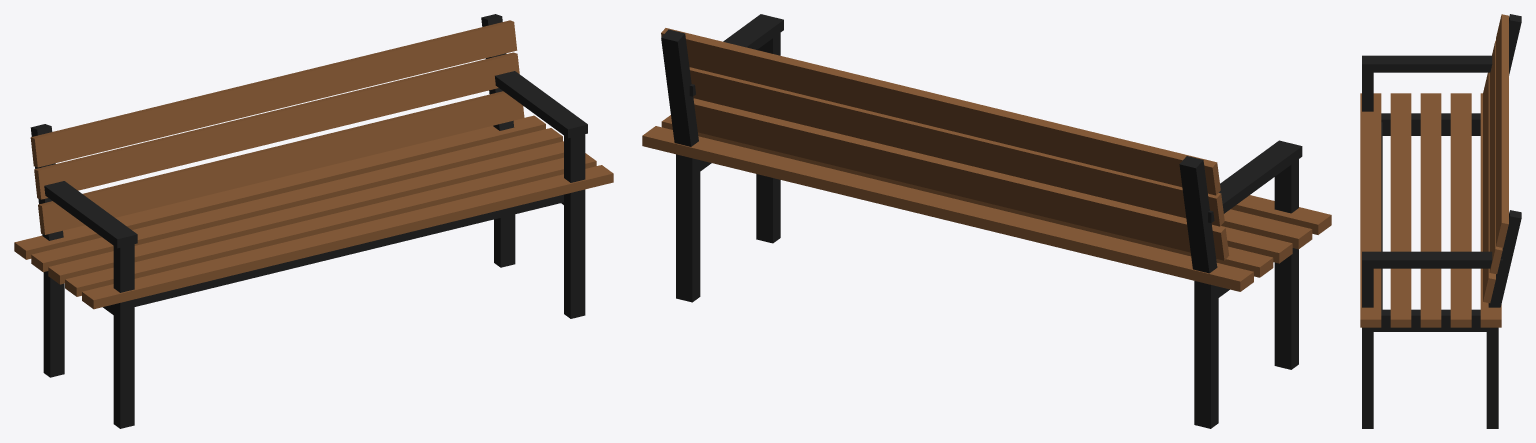
File: prop_bench_wood.glb
3 renders of one model, left to right at view 1: azimuth 30°, elevation 25°; view 2: azimuth 150°, elevation 25°; view 3: azimuth 270°, elevation 25°, orthographic. The views are drawn at different scales.
Visible parts, largest first — view 1: prop_bench_wood; view 2: prop_bench_wood; view 3: prop_bench_wood.
Boxes of the visible parts, x1,y1,x2,y2 form: prop_bench_wood: (14, 14, 613, 428); prop_bench_wood: (642, 14, 1331, 428); prop_bench_wood: (1360, 14, 1521, 428).
Size of the model in its own units: 1.8 by 0.7892 by 0.5421.
1 material, 1 textured.
